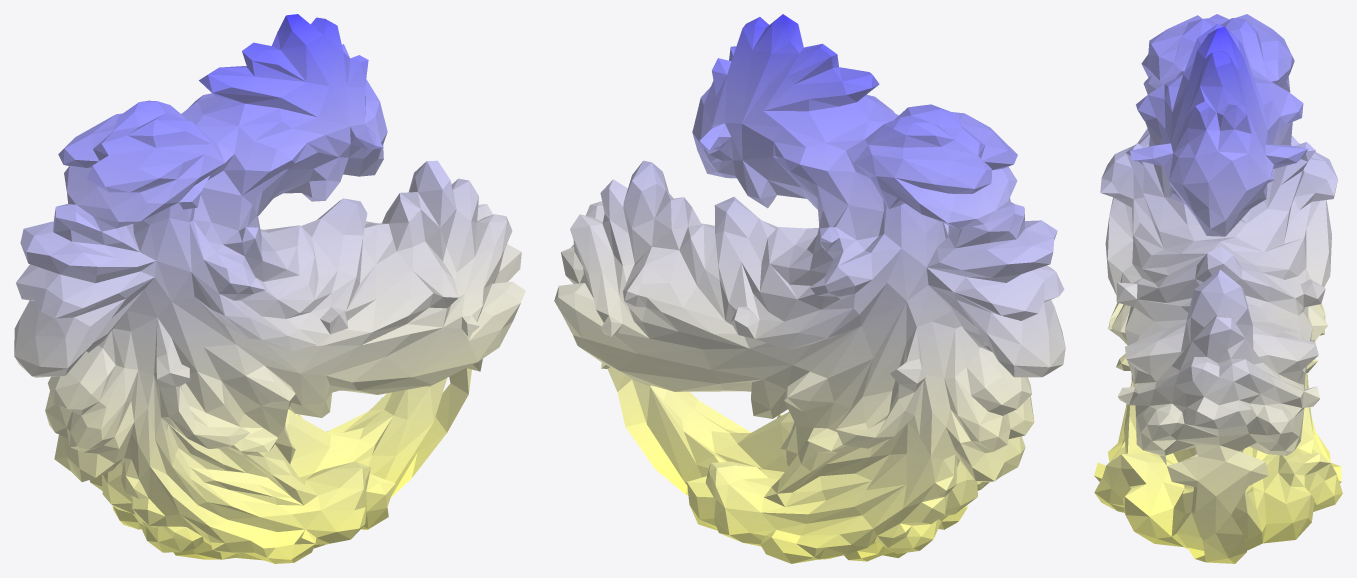
The model's file is 145_cyb_laser_gradient_fish_scales_2932_2026_10_03_f036fa.glb.
The picture shows the model from 3 angles, left to right: view 1: azimuth 30°, elevation 25°; view 2: azimuth 150°, elevation 25°; view 3: azimuth 270°, elevation 25°; orthographic projection.
Parts seen in each view (by area): view 1: geometry_0; view 2: geometry_0; view 3: geometry_0.
Part boxes in pixels (x1,y1,x2,y2): geometry_0: (14,14,525,563); geometry_0: (554,14,1065,563); geometry_0: (1094,14,1342,563).
Size of the model in its own units: 0.9269 by 0.9627 by 0.41.
